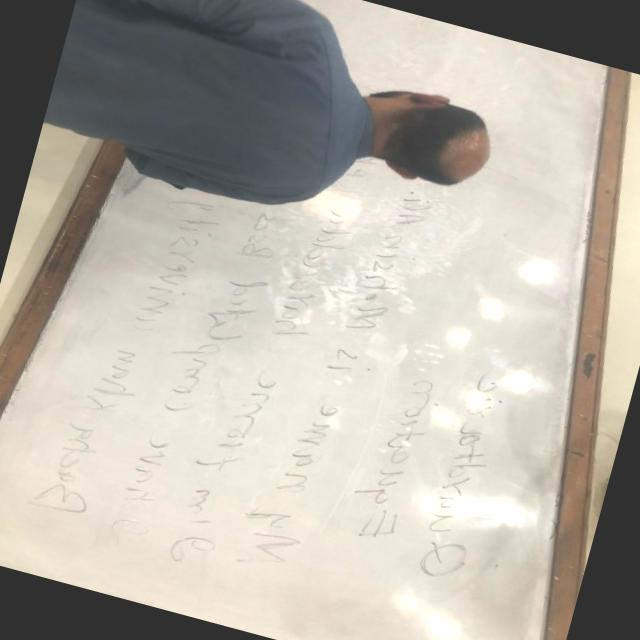Instructor: (39, 0, 545, 253)
